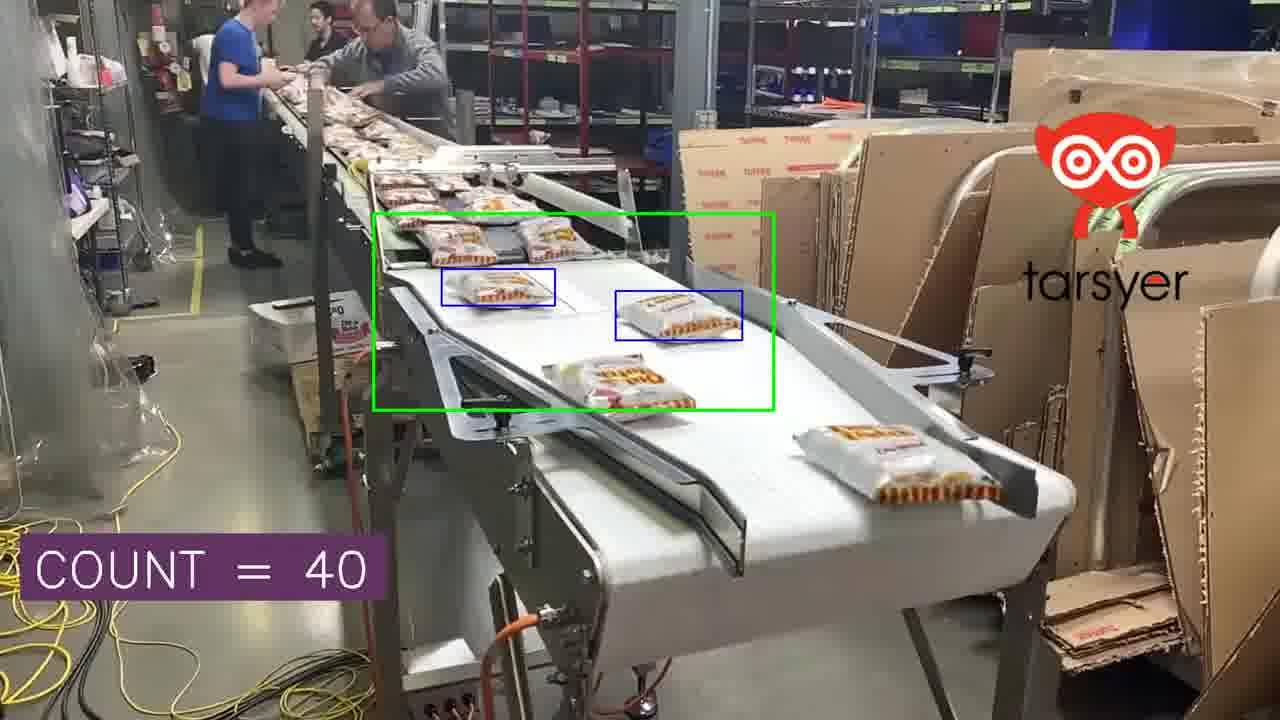Snack: (795, 425, 1001, 504), (543, 355, 695, 420), (619, 291, 742, 339), (446, 269, 552, 306), (517, 216, 598, 262), (419, 224, 499, 266), (459, 188, 540, 224), (391, 203, 457, 231), (379, 188, 437, 208), (323, 125, 366, 151), (359, 119, 402, 142), (375, 173, 429, 190), (277, 76, 307, 105), (430, 175, 472, 194)
